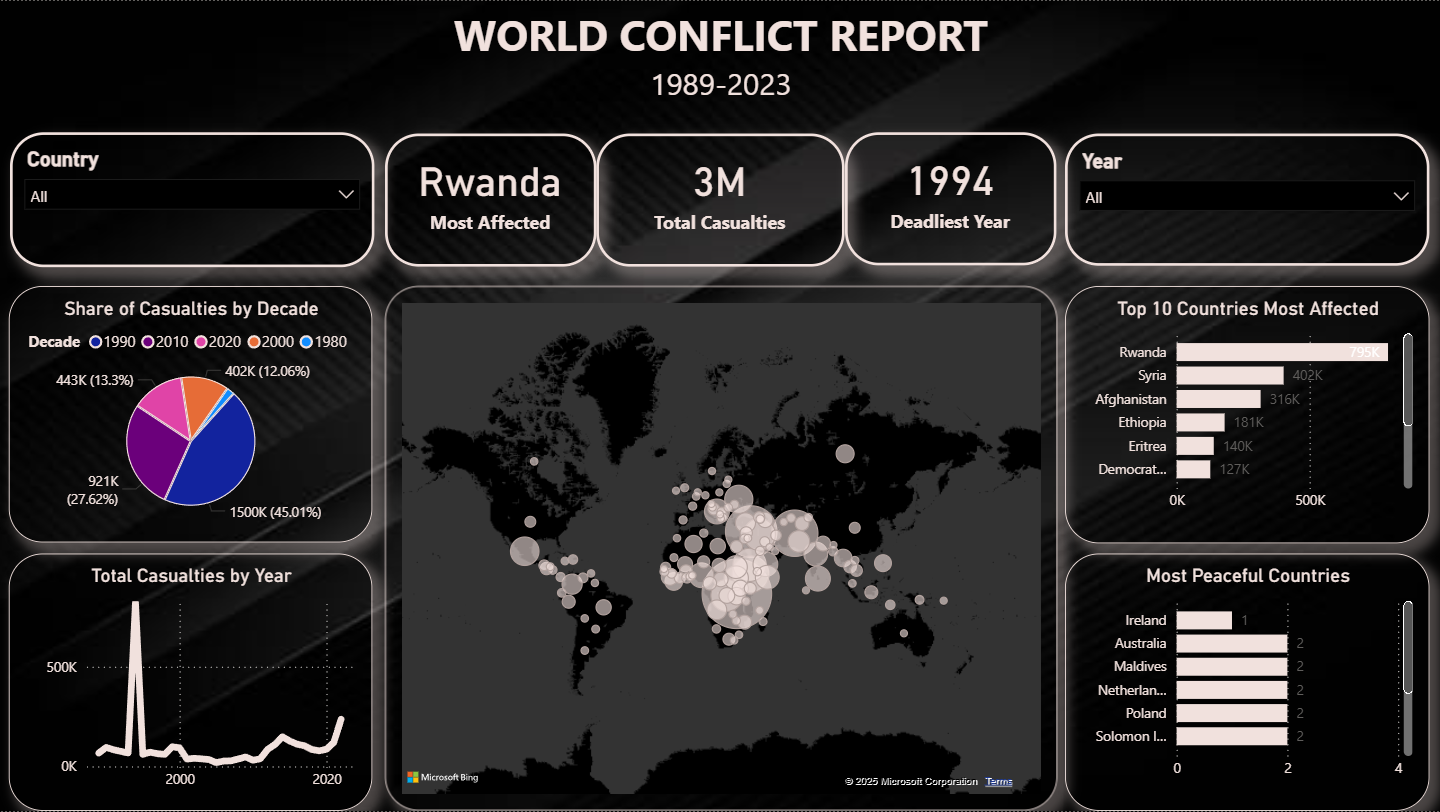

What the dashboard file says about the page in this screenshot:
{"tool":"powerbi","page":{"name":"Page 1","canvas":[1280,720],"ordinal":0},"visuals":[{"type":"map","fields":{"Category":["countries-in-conflict-data-clean.Country"],"Size":["countries-in-conflict-data-clean.total_casualties"]},"box":[341.9,253.5,597.7,466.3],"z":0},{"type":"card","fields":{"Values":["countries-in-conflict-data-clean.total_casualties"]},"box":[530.2,117.4,220.9,118.6],"z":1000},{"type":"slicer","fields":{"Values":["countries-in-conflict-data-clean.Year"]},"box":[946.2,117.5,323.8,117.5],"z":2000},{"type":"textbox","box":[394,0,492.8,96.5],"z":3000},{"type":"lineChart","title":"Total Casualties by Year","fields":{"Y":["Sum(countries-in-conflict-data-clean.Deaths in ongoing conflicts in a country (best estimate) - Conflict type: all)"],"Category":["countries-in-conflict-data-clean.Year"]},"box":[8.1,490.7,323.3,229.1],"z":4000},{"type":"card","fields":{"Values":["countries-in-conflict-data-clean.Deadliest Year"]},"box":[751.2,116.3,188.4,118.6],"z":5000},{"type":"slicer","fields":{"Values":["countries-in-conflict-data-clean.Country"]},"box":[8.8,116.2,323.8,120],"z":6000},{"type":"barChart","title":"Top 10 Countries Most Affected","fields":{"Y":["Sum(TOP 10 countries by total conflict.total_deaths)"],"Category":["TOP 10 countries by total conflict.country"]},"box":[946.5,253.9,323.9,228.6],"z":7000},{"type":"card","fields":{"Values":["countries-in-conflict-data-clean.Most Affected"]},"box":[341.9,117.4,188.4,118.6],"z":8000},{"type":"clusteredBarChart","title":"Most Peaceful Countries","fields":{"Category":["Peaceful.country"],"Y":["Sum(Peaceful.total_deaths)"]},"box":[946.5,491.6,323.9,228.6],"z":9000},{"type":"pieChart","title":"Share of Casualties by Decade","fields":{"Category":["Deadliest decades.decade"],"Y":["Sum(Deadliest decades.total_deaths)"]},"box":[8.1,253.5,323.3,227.9],"z":10000}]}

Visuals, with their boxes in screenshot pixels (x1, y1, x2, y2), scaled from the page's 1280x720 canvas onto the 1440x812 screenshot:
map - countries-in-conflict-data-clean.Country x countries-in-conflict-data-clean.total_casualties: rect(385, 286, 1057, 811)
card - countries-in-conflict-data-clean.total_casualties: rect(596, 132, 845, 266)
slicer - countries-in-conflict-data-clean.Year: rect(1064, 133, 1429, 265)
textbox: rect(443, 0, 998, 109)
"Total Casualties by Year" lineChart: rect(9, 553, 373, 811)
card - countries-in-conflict-data-clean.Deadliest Year: rect(845, 131, 1057, 265)
slicer - countries-in-conflict-data-clean.Country: rect(10, 131, 374, 266)
"Top 10 Countries Most Affected" barChart: rect(1065, 286, 1429, 544)
card - countries-in-conflict-data-clean.Most Affected: rect(385, 132, 597, 266)
"Most Peaceful Countries" clusteredBarChart: rect(1065, 554, 1429, 811)
"Share of Casualties by Decade" pieChart: rect(9, 286, 373, 543)
